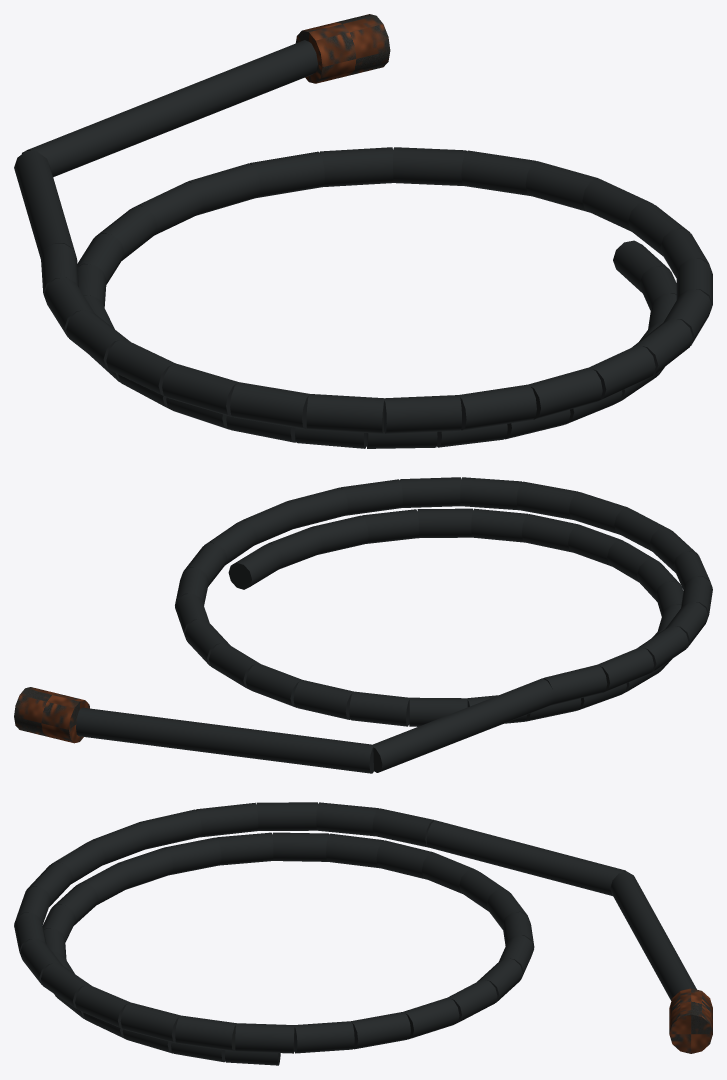
File: SM_CoiledAirHose_0397d7fc33.fbx
3 renders of one model, top to bottom at view 1: azimuth 30°, elevation 25°; view 2: azimuth 150°, elevation 25°; view 3: azimuth 270°, elevation 25°, orthographic. The views are drawn at different scales.
Parts seen in each view (by area): view 1: SM_CoiledAirHose_0397d7fc33; view 2: SM_CoiledAirHose_0397d7fc33; view 3: SM_CoiledAirHose_0397d7fc33.
Boxes of the visible parts, left/top/right/bottom form: SM_CoiledAirHose_0397d7fc33: left=14, top=14, right=712, bottom=448; SM_CoiledAirHose_0397d7fc33: left=14, top=477, right=712, bottom=773; SM_CoiledAirHose_0397d7fc33: left=14, top=802, right=712, bottom=1065.
Size of what is drawn, in the model's own units: 85.03 by 112 by 10.41.
Materials: 2 (1 with a texture image).
